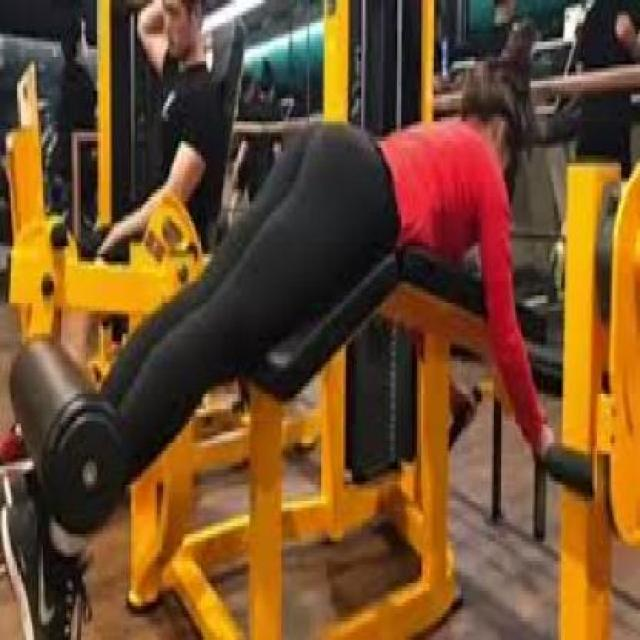reg curl machine: (0, 54, 554, 637)
